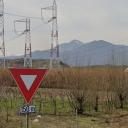preferencia: (7, 65, 51, 106)
